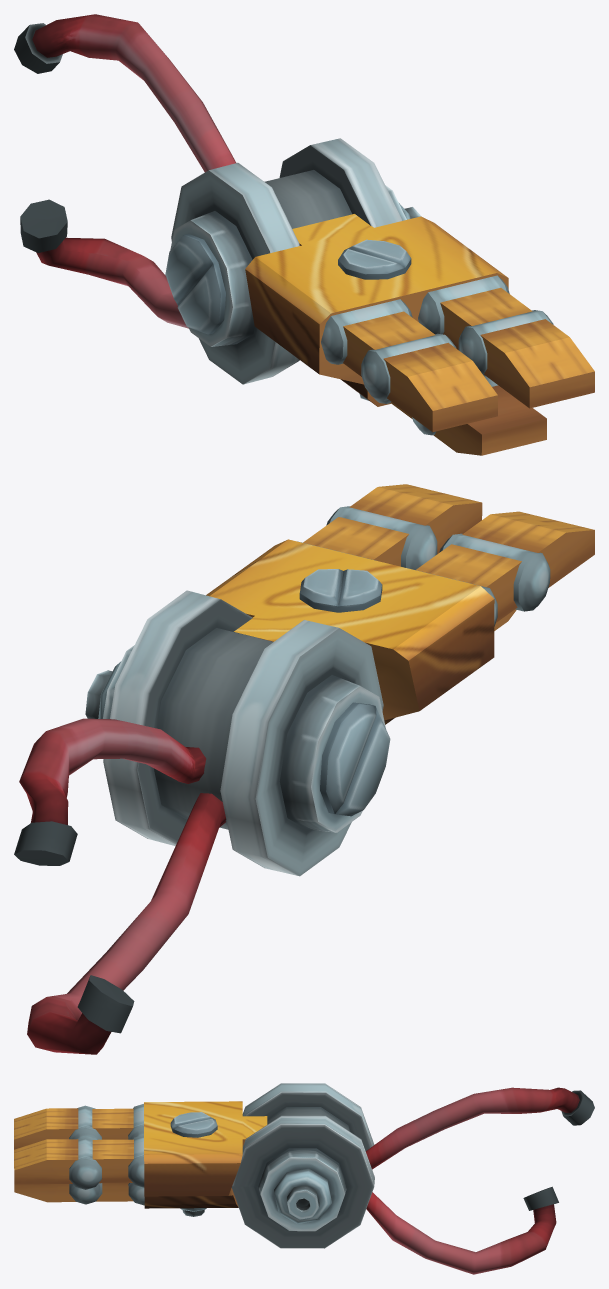
The model's file is Wooden_Robot_Hand.fbx.
3 renders of one model, top to bottom at view 1: azimuth 30°, elevation 25°; view 2: azimuth 150°, elevation 25°; view 3: azimuth 270°, elevation 25°, orthographic. The views are drawn at different scales.
Visible parts, largest first — view 1: Wooden_Robot_Hand; view 2: Wooden_Robot_Hand; view 3: Wooden_Robot_Hand.
Boxes of the visible parts, x1,y1,x2,y2 form: Wooden_Robot_Hand: [14, 14, 594, 455]; Wooden_Robot_Hand: [14, 484, 594, 1054]; Wooden_Robot_Hand: [14, 1083, 594, 1274].
Bounding box in the file's own units: 0.7025 × 2.05 × 0.6041.
